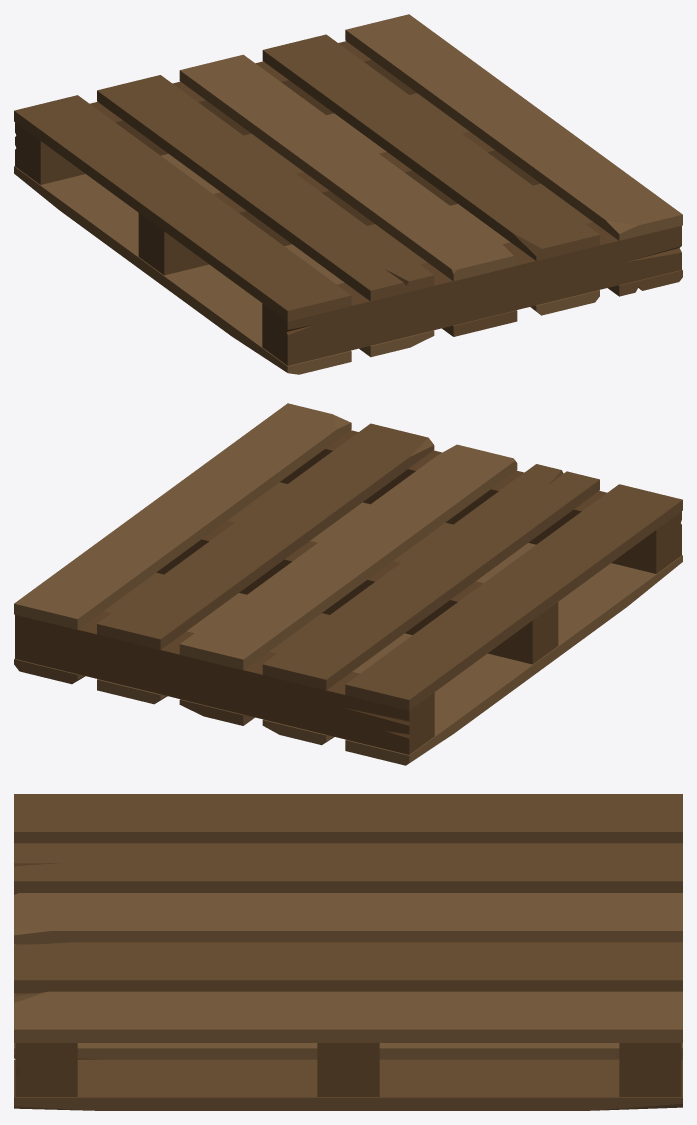
The model's file is Pallet_02.glb.
The picture shows the model from 3 angles, top to bottom: view 1: azimuth 30°, elevation 25°; view 2: azimuth 150°, elevation 25°; view 3: azimuth 270°, elevation 25°; orthographic projection. The views are drawn at different scales.
Visible parts, largest first — view 1: Pallet_02; view 2: Pallet_02; view 3: Pallet_02.
Boxes of the visible parts, left/top/right/bottom form: Pallet_02: left=14, top=14, right=682, bottom=374; Pallet_02: left=14, top=403, right=682, bottom=765; Pallet_02: left=14, top=794, right=682, bottom=1110.
Bounding box in the file's own units: 1.25 × 0.2009 × 1.5.
1 material, 1 textured.
